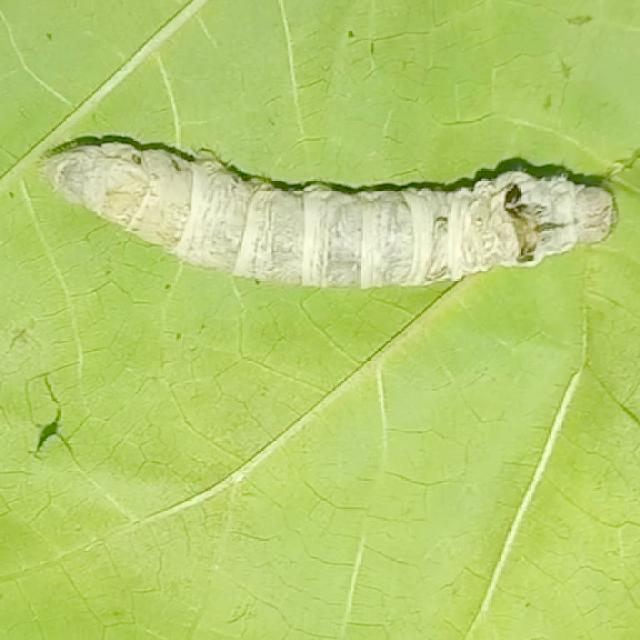Grasserie: (33, 99, 640, 331)
